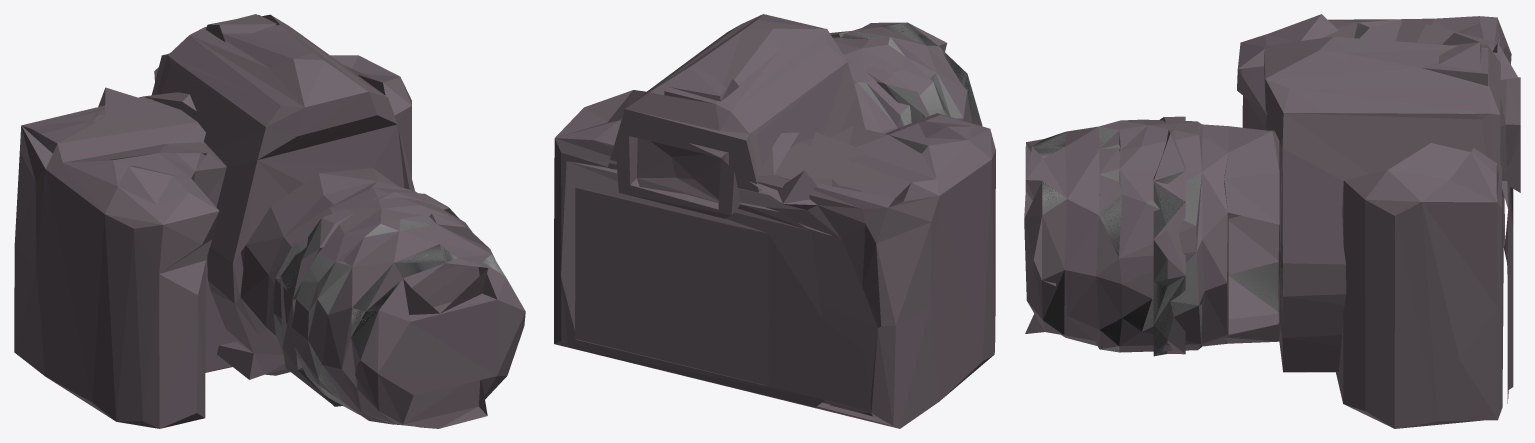
File: model_align.obj
The picture shows the model from 3 angles, left to right: view 1: azimuth 30°, elevation 25°; view 2: azimuth 150°, elevation 25°; view 3: azimuth 270°, elevation 25°; orthographic projection. The views are drawn at different scales.
Size of the model in its own units: 0.172 by 0.1388 by 0.1972.
